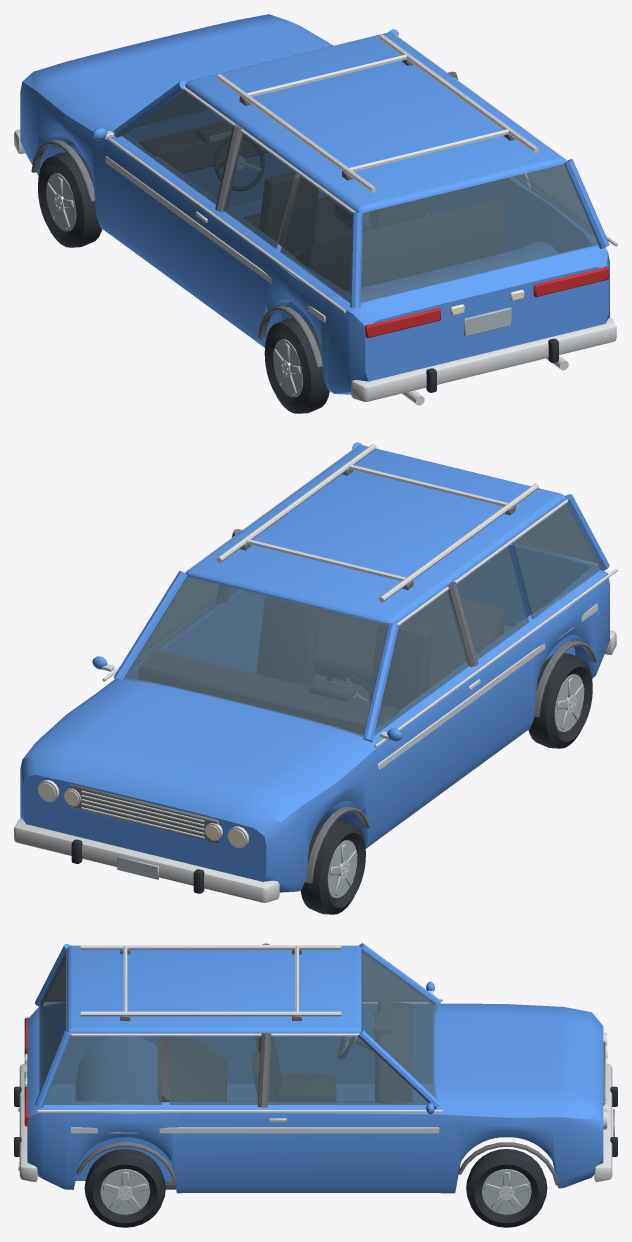
The model's file is LongroofGT.fbx.
3 views of the same model, one above another, from view 1: azimuth 30°, elevation 25°; view 2: azimuth 150°, elevation 25°; view 3: azimuth 270°, elevation 25° (orthographic). The views are drawn at different scales.
Visible parts, largest first — view 1: Body__paint, Body__glass, Body__interior, Body__chrome, WheelRL__rubber, WheelFL__rubber, Body__engine, Body__tail, WheelFL__metal, WheelRL__metal, Body__metal; view 2: Body__paint, Body__glass, Body__interior, Body__chrome, Body__engine, WheelFL__rubber, WheelRL__rubber, WheelFL__metal, WheelRL__metal, Body__lamp; view 3: Body__paint, Body__glass, Body__chrome, Body__interior, WheelFR__rubber, WheelRR__rubber, Body__engine, WheelFR__metal, WheelRR__metal, Body__rubber.
Boxes of the visible parts, x1,y1,x2,y2 form: Body__paint: (20,14,609,394); Body__glass: (120,90,599,302); Body__interior: (139,121,504,290); Body__chrome: (14,34,617,405); WheelRL__rubber: (264,318,329,413); WheelFL__rubber: (38,152,101,247); Body__engine: (31,59,514,368); Body__tail: (365,266,608,338); WheelFL__metal: (46,173,76,230); WheelRL__metal: (273,339,303,396); Body__metal: (209,131,511,336); Body__paint: (20,442,609,892); Body__glass: (123,503,603,737); Body__interior: (138,594,505,734); Body__chrome: (14,444,617,902); Body__engine: (69,468,597,883); WheelFL__rubber: (300,819,365,914); WheelRL__rubber: (528,653,592,748); WheelFL__metal: (327,840,357,897); WheelRL__metal: (554,674,584,731); Body__lamp: (39,783,245,846); Body__paint: (27,943,603,1193); Body__glass: (39,949,437,1104); Body__chrome: (18,945,612,1181); Body__interior: (158,1001,412,1189); WheelFR__rubber: (466,1149,547,1227); WheelRR__rubber: (84,1149,165,1227); Body__engine: (76,943,605,1185); WheelFR__metal: (482,1169,531,1214); WheelRR__metal: (100,1169,149,1214); Body__rubber: (14,1086,617,1156).
Bounding box in the file's own units: 2.35 × 1.67 × 4.75.
